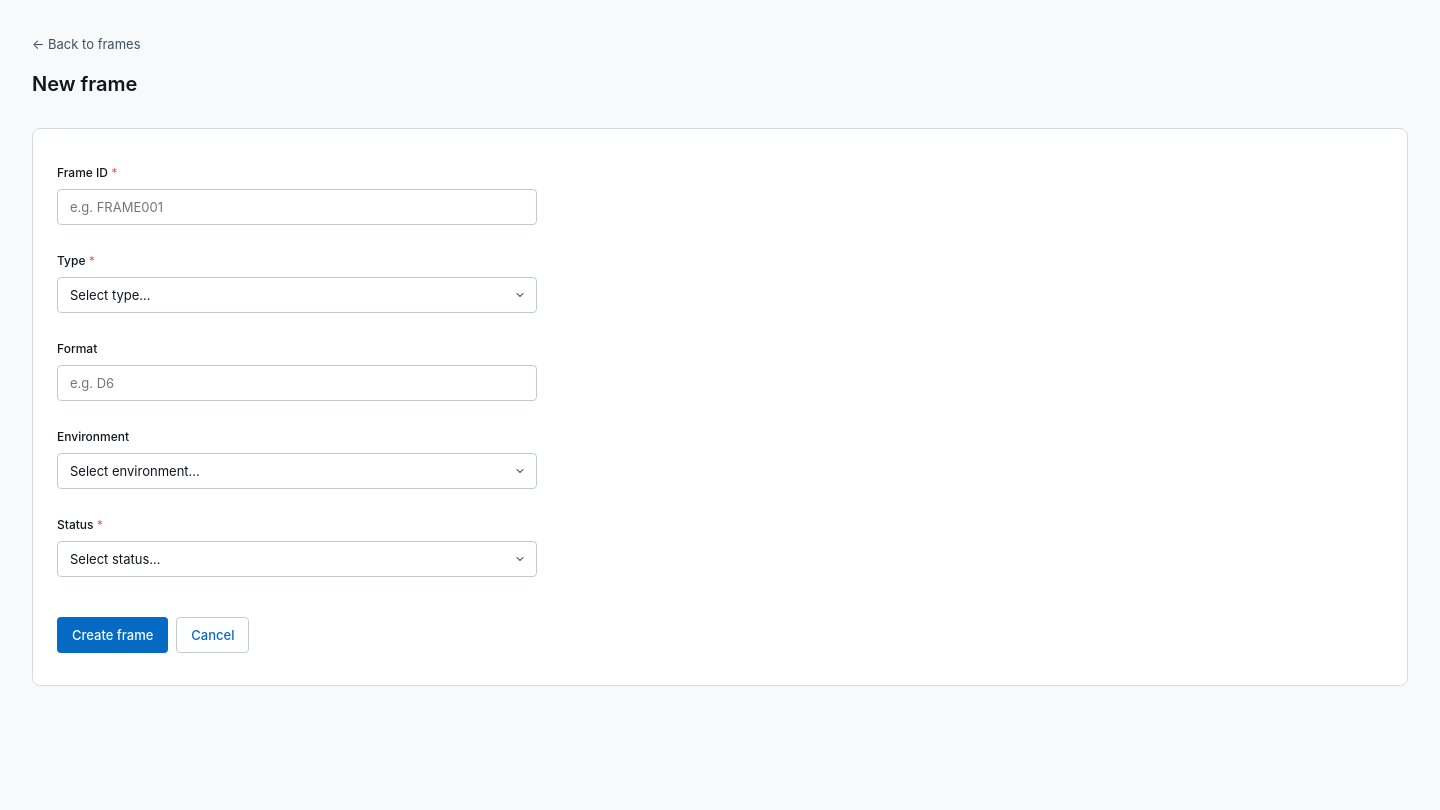
Test: FrameFormPage › Create mode › shows error message when create fails
In the field labelled "Frame ID *": (297, 207) [57,189,537,225], type "FRAME001"
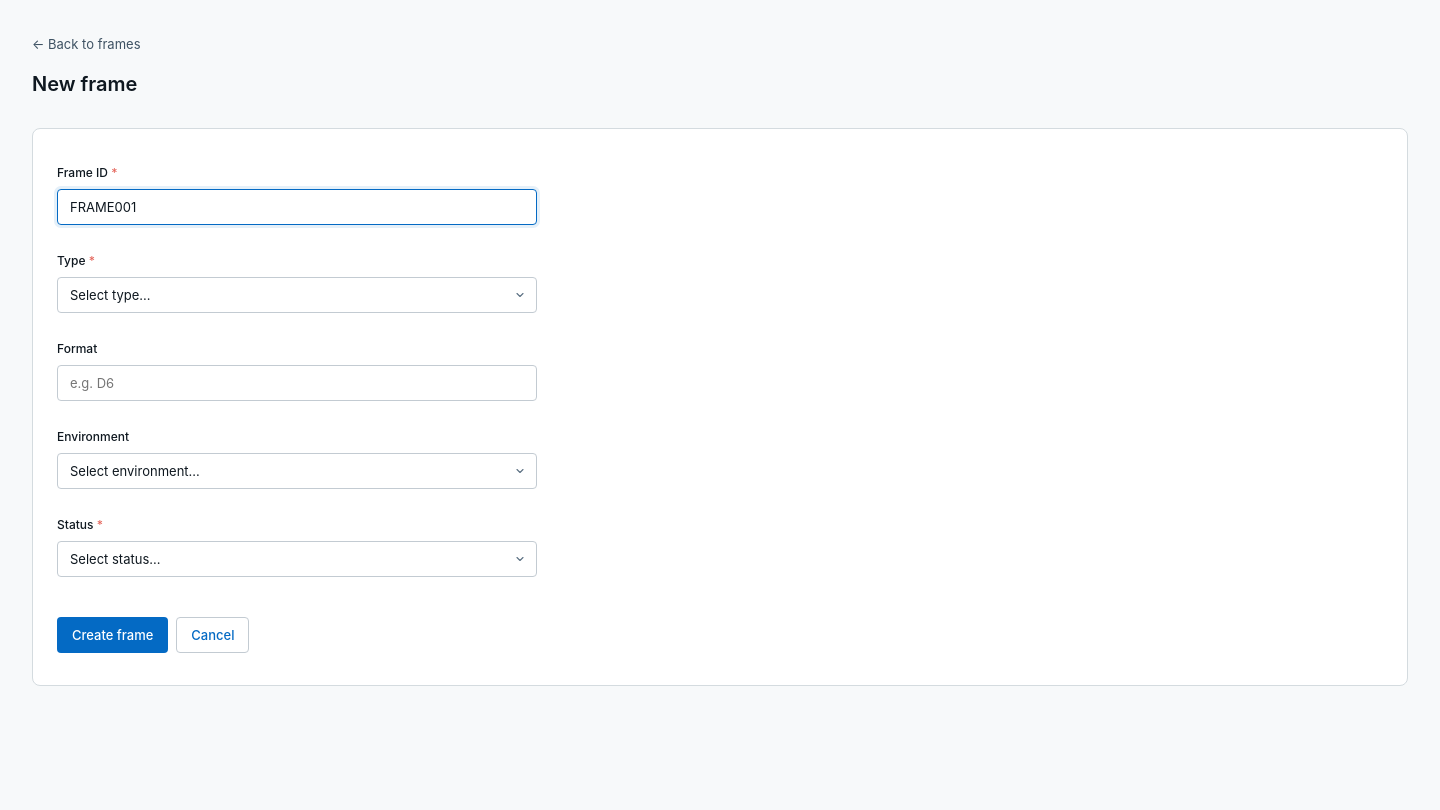
Select "DIGITAL" in the dropdown labelled "Type *": (297, 295) [57,277,537,313]
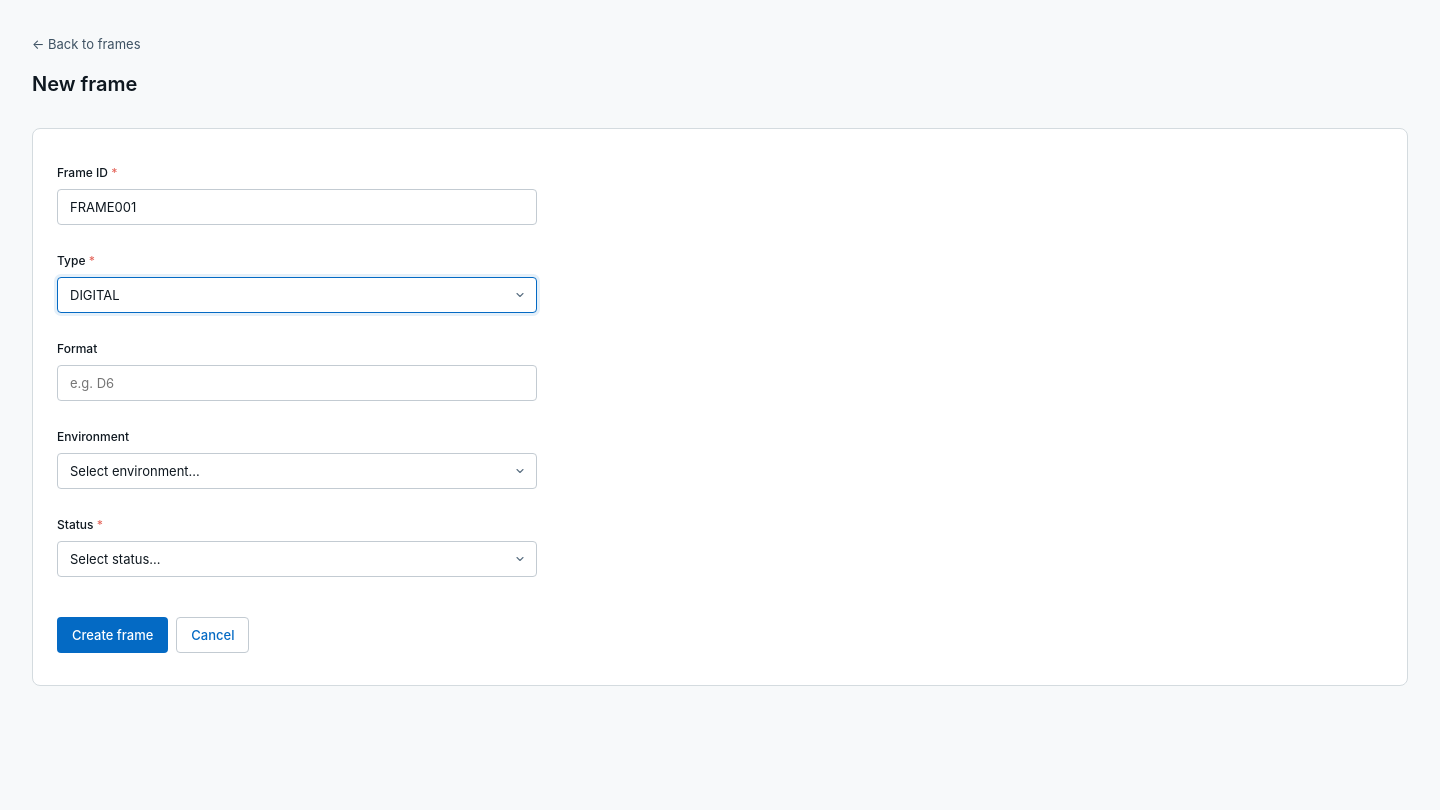
Select "LIVE" in the dropdown labelled "Status *": (297, 559) [57,541,537,577]
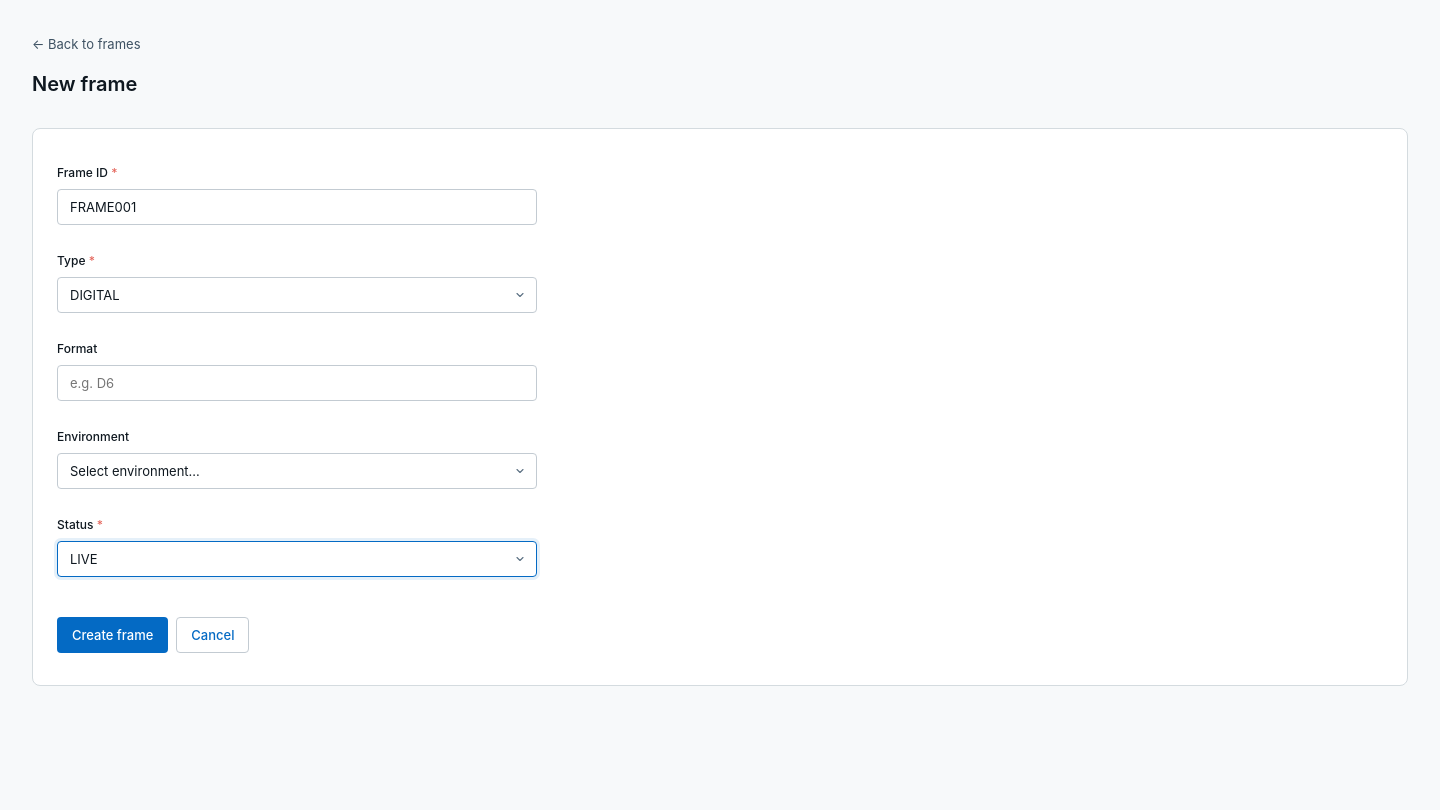
Click the button "Create frame": (113, 635) [57,617,168,653]
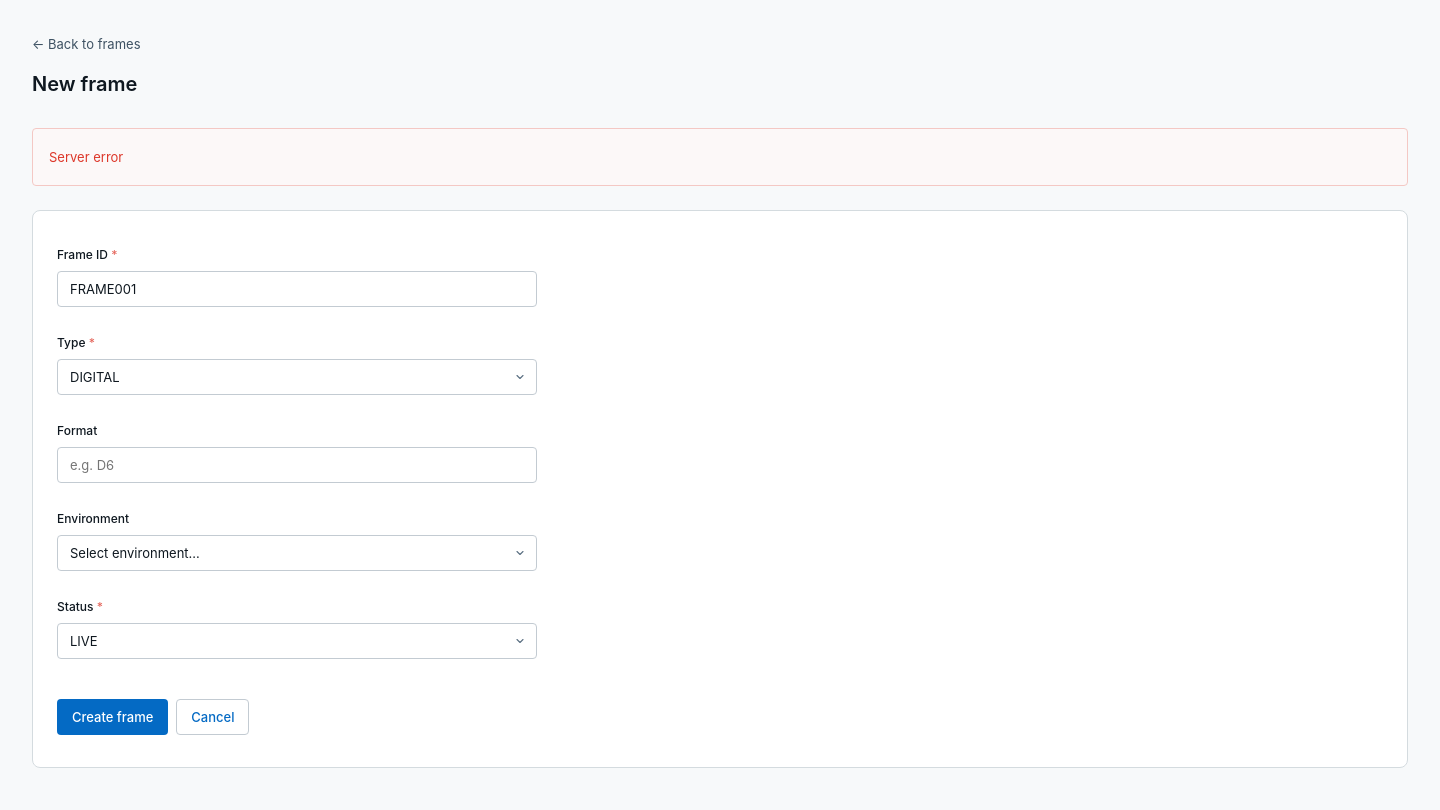
Expected: the text "Server error" is shown, [32,128,1408,186]
